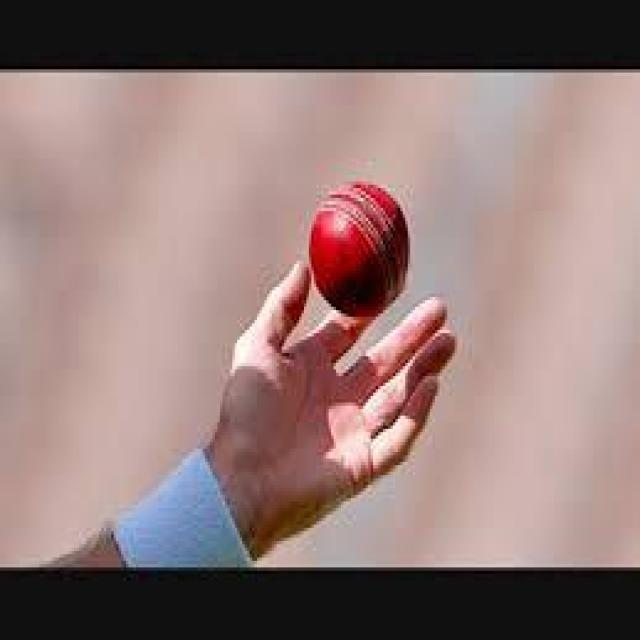ball: (312, 181, 411, 317)
